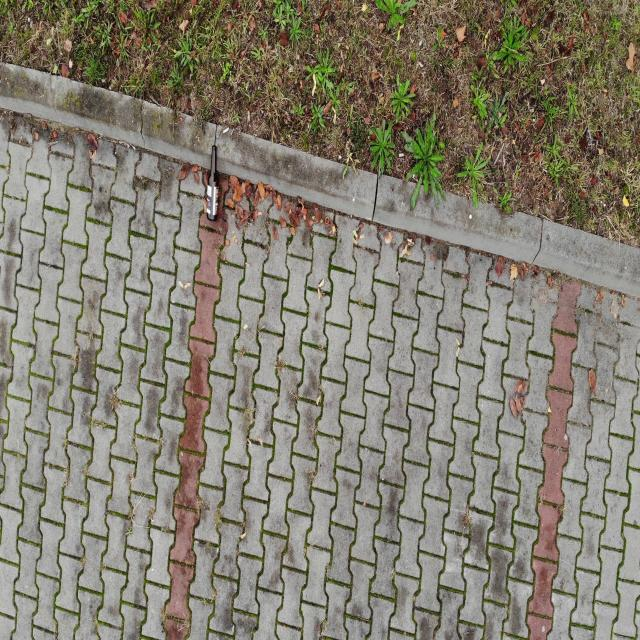rubbish: (205, 144, 221, 222)
